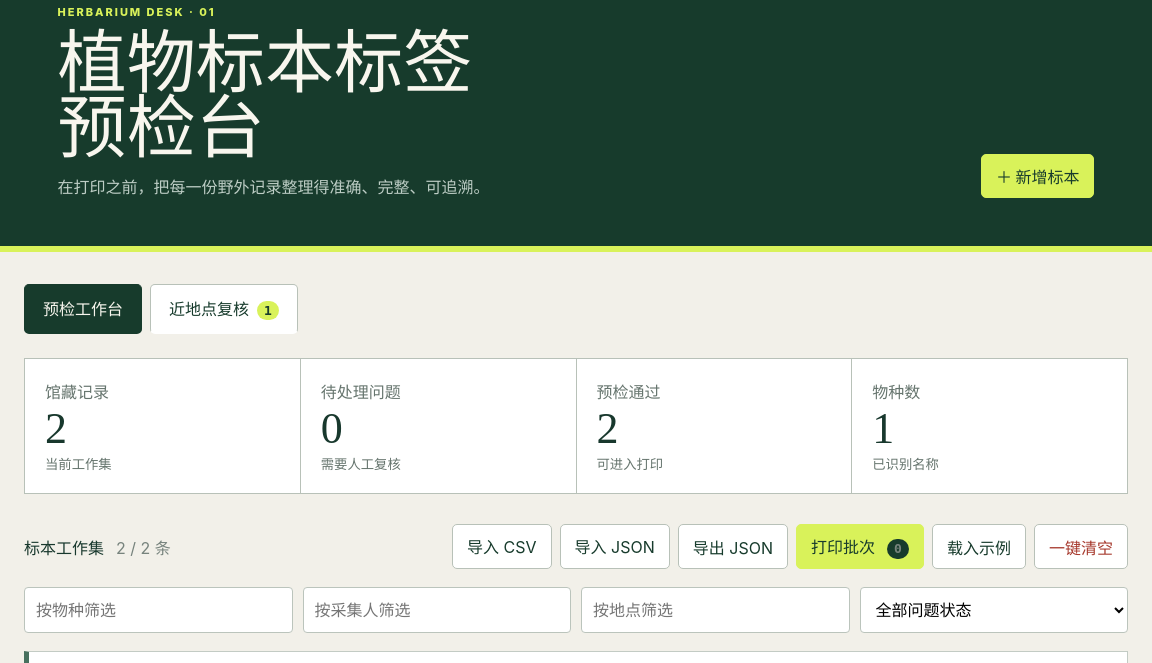
Scenario: 近地点复核工作区 › 改地点/生境备注不使结论失效
The image size is (1152, 663).
Click the button "近地点复核 1": (224, 309) [150, 284, 298, 334]
(page scrolled)
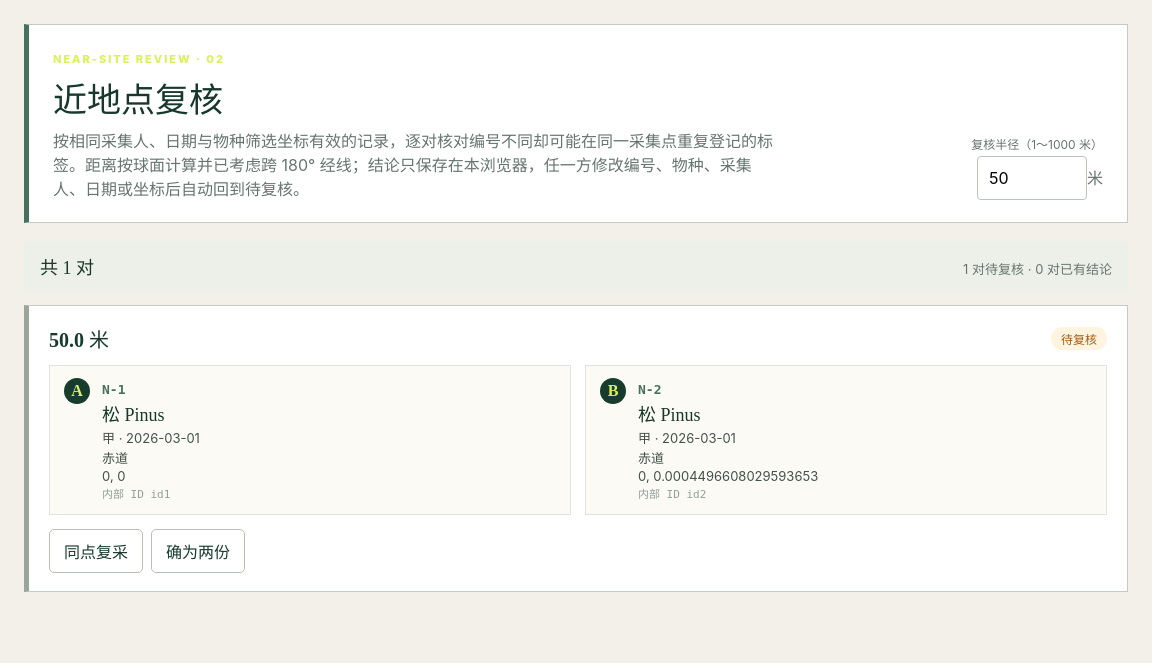
Click the button "同点复采": (96, 552) [49, 530, 143, 574]
(page scrolled)
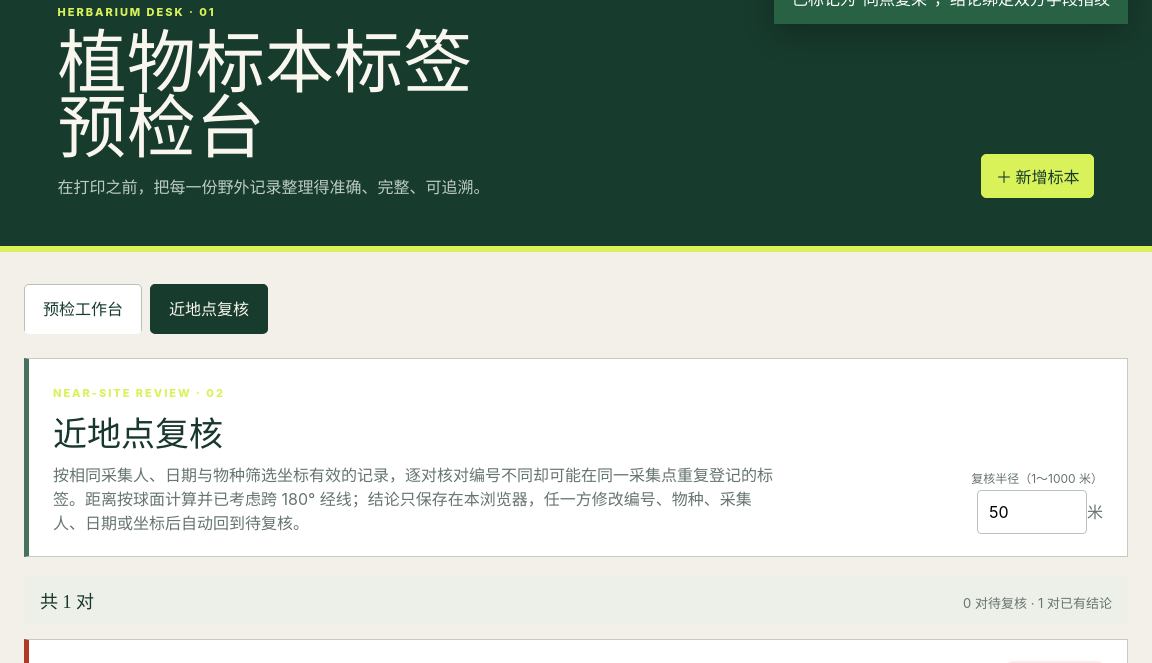
Click the button "预检工作台": (83, 309) [24, 284, 142, 334]
(page scrolled)
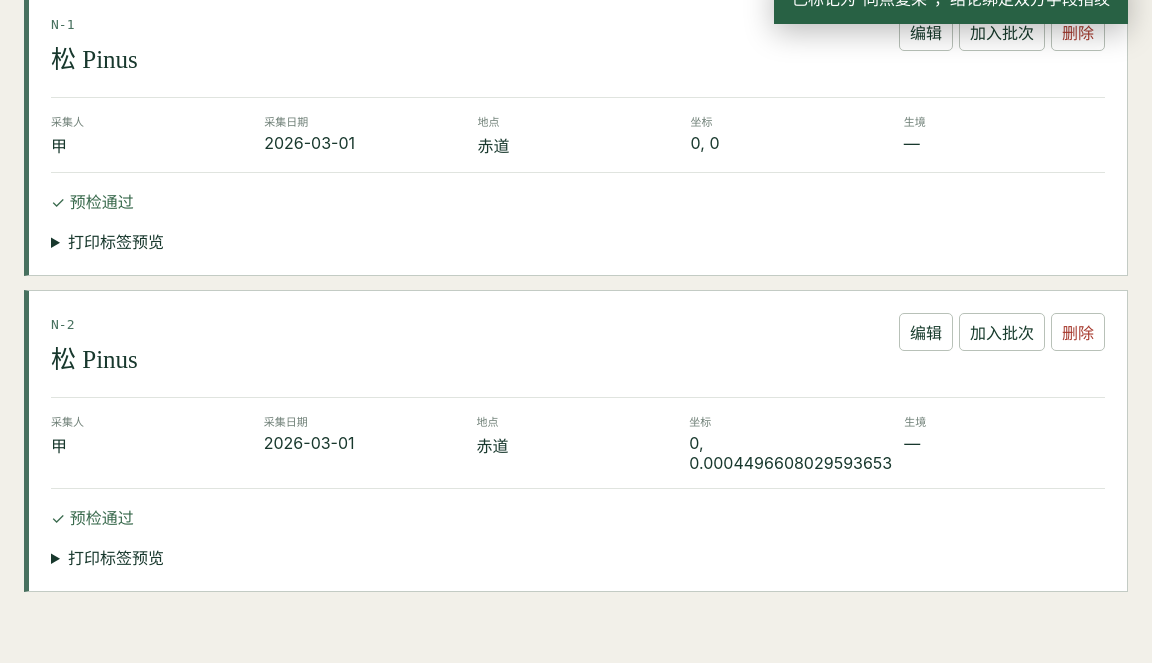
Click the button "编辑" in the row of "N-2": (926, 332) [899, 313, 953, 351]
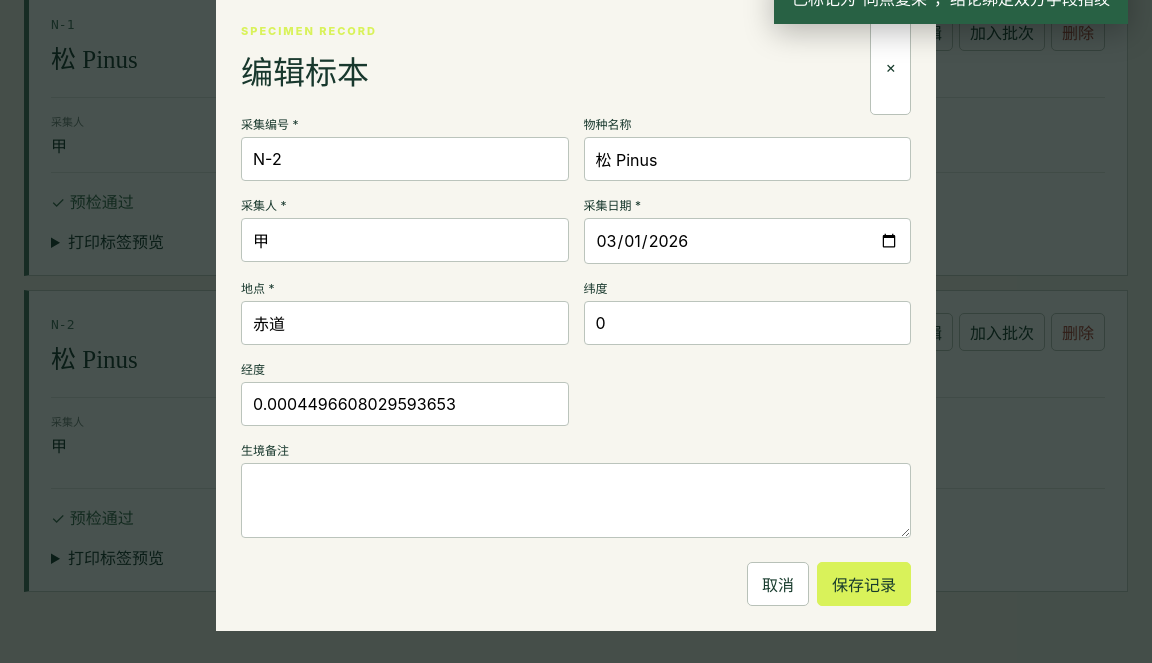
Replace the text in the field labelled "地点 *" with "另一处地点": (405, 322) [241, 300, 568, 344]
Click the button "保存记录": (864, 584) [817, 562, 911, 606]
(page scrolled)
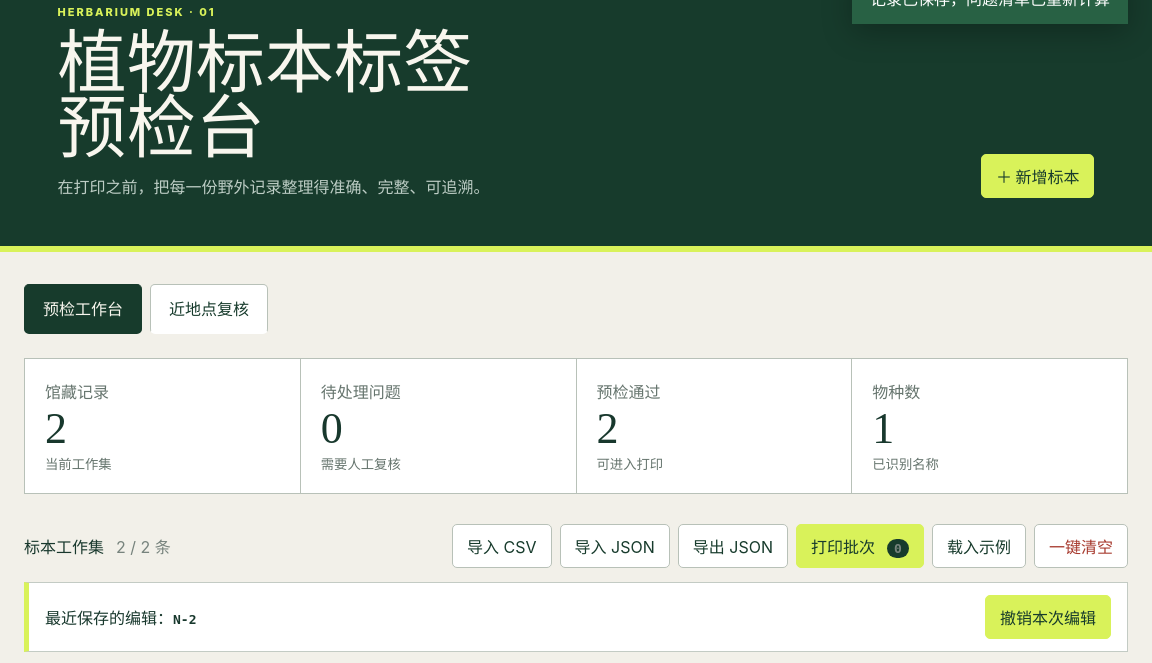
Click the button "近地点复核": (209, 309) [150, 284, 268, 334]
(page scrolled)
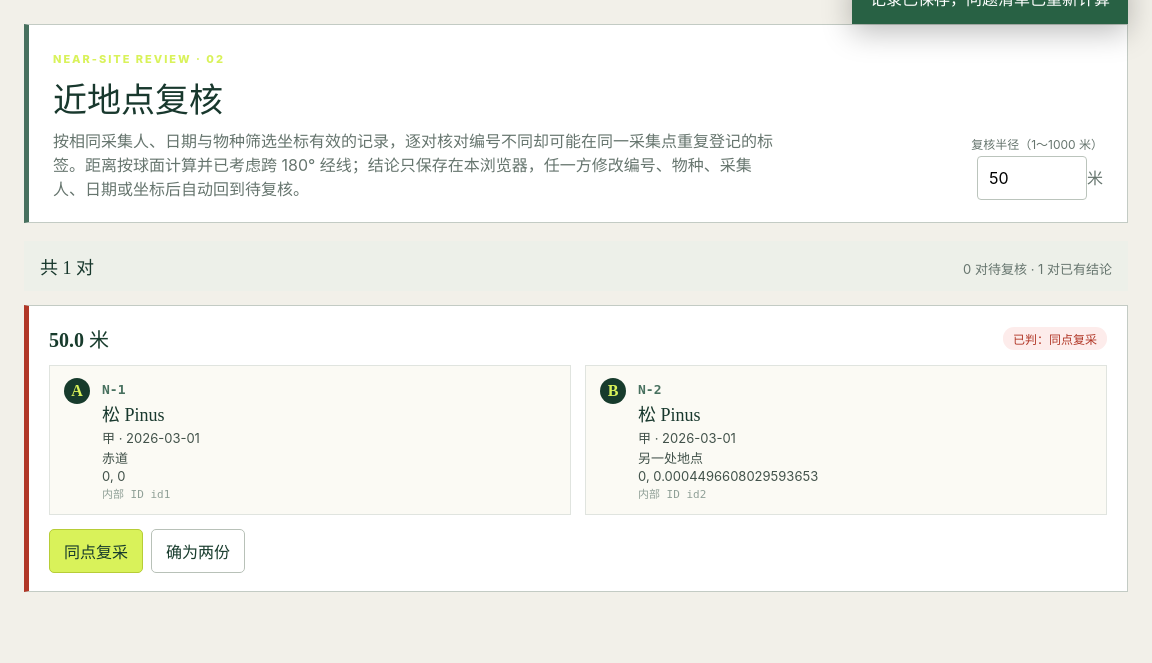
expect the element with class "near-pair" shows "已判：同点复采": met, box [24, 305, 1128, 592]
